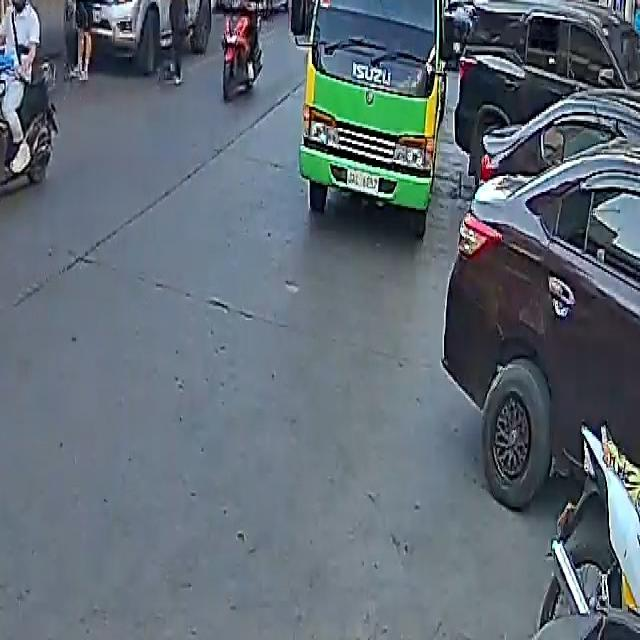car: (444, 49, 640, 536), (453, 0, 639, 181), (75, 0, 217, 60)
